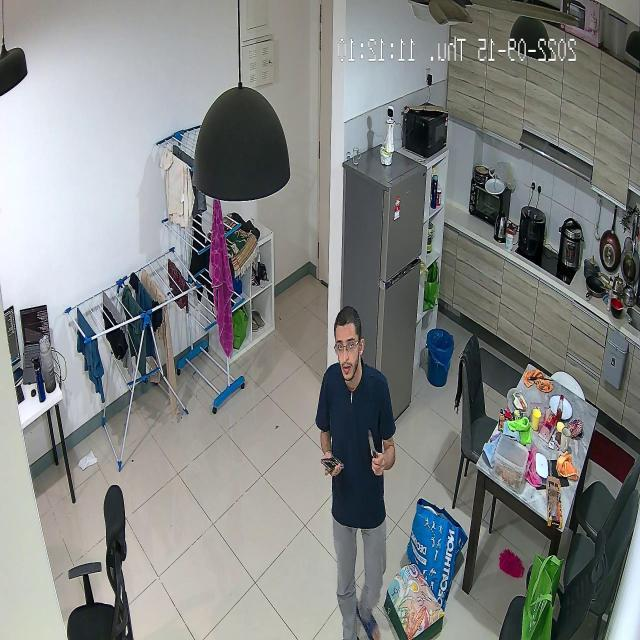Knife: (366, 426, 395, 477)
